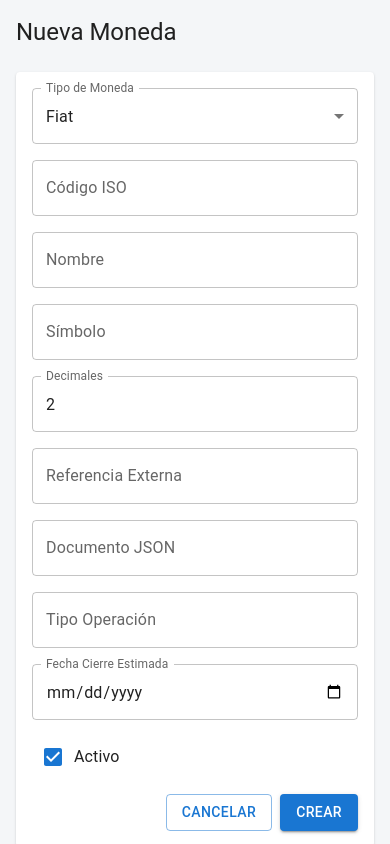
it: MonedaFormPage (react-hook-form + zod) › shows per-field helperText errors on empty submit
This screenshot has width=390, height=844.
What coordinates should you click on to do the following:
click the button "Crear"
I would click on:
 (319, 812)
Its box is left=280, top=794, right=358, bottom=830.
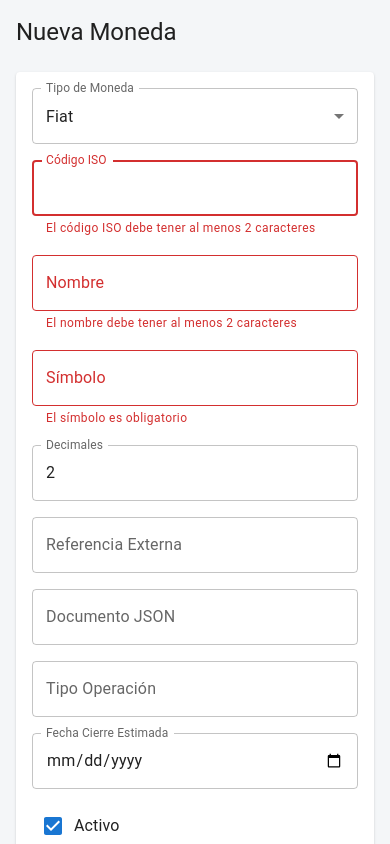
expect the text "El código ISO debe tener al menos 2 caracteres" is shown: met, box left=46, top=219, right=344, bottom=239
expect the text "El nombre debe tener al menos 2 caracteres" is shown: met, box left=46, top=316, right=297, bottom=330
expect the text "El símbolo es obligatorio" is shown: met, box left=46, top=411, right=187, bottom=425
